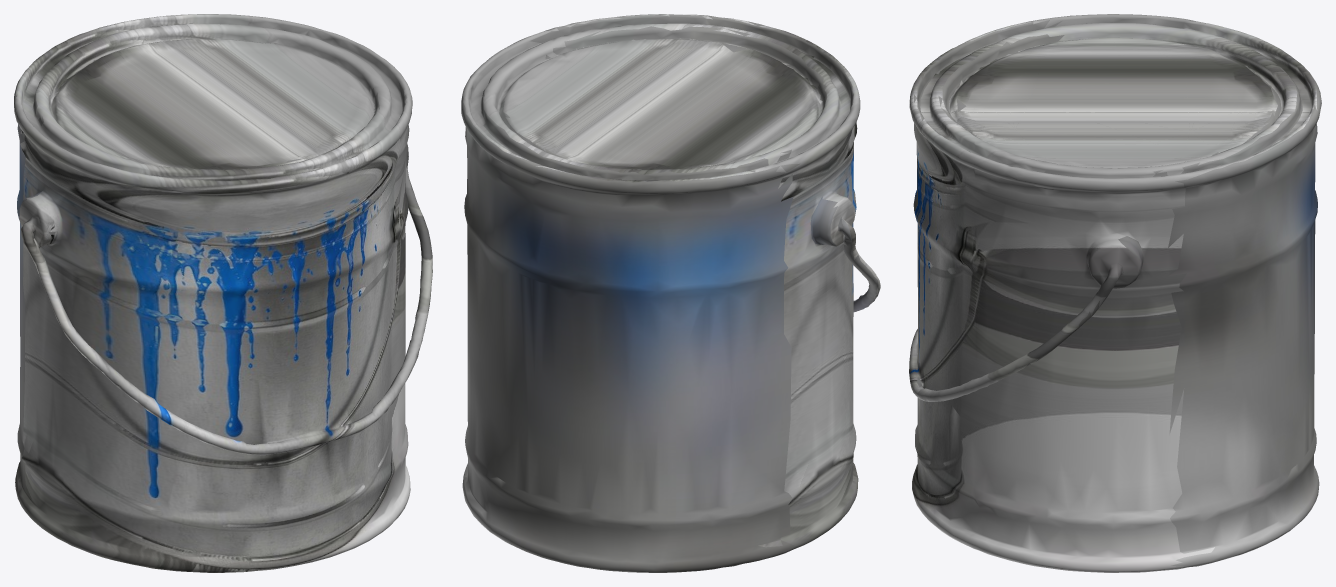
File: paint_can.glb
The picture shows the model from 3 angles, left to right: view 1: azimuth 30°, elevation 25°; view 2: azimuth 150°, elevation 25°; view 3: azimuth 270°, elevation 25°; orthographic projection.
Visible parts, largest first — view 1: paint_can; view 2: paint_can; view 3: paint_can.
Boxes of the visible parts, <box> form: paint_can: <box>14,14,432,572</box>; paint_can: <box>461,14,880,572</box>; paint_can: <box>909,14,1321,572</box>.
Size of the model in its own units: 6 by 5.89 by 5.56.
1 material, 1 textured.
